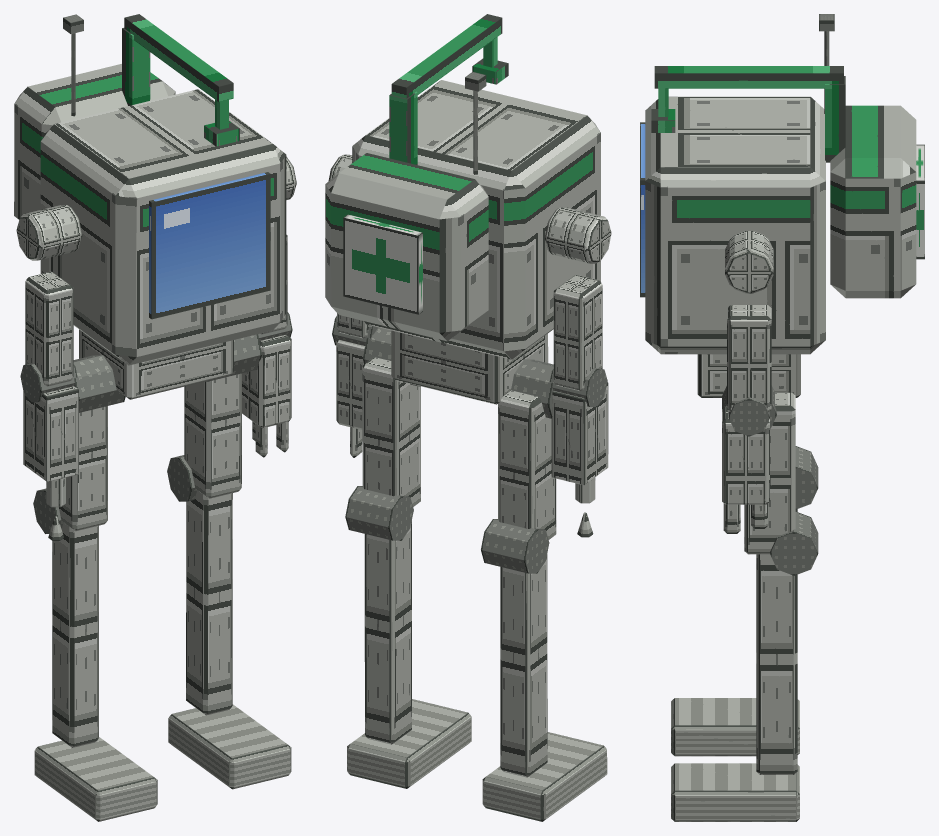
The model's file is mech_repair.glb.
The picture shows the model from 3 angles, left to right: view 1: azimuth 30°, elevation 25°; view 2: azimuth 150°, elevation 25°; view 3: azimuth 270°, elevation 25°; orthographic projection.
Visible parts, largest first — view 1: Torso-head, repair_glass, L_shin, R_shin, L_foot, R_foot, L_thigh, repair_crane, R_forearm, R_upper_arm, root_Pelvis, L_forearm (+8 smaller); view 2: Torso-head, R_shin, L_shin, L_thigh, R_thigh, repair_decal, root_Pelvis, R_foot, L_foot, repair_crane, R_forearm, R_upper_arm (+9 smaller); view 3: Torso-head, L_shin, L_foot, repair_crane, R_foot, L_forearm, L_thigh, L_upper_arm, L_shoulder, root_Pelvis, L_back_knee, R_back_knee (+3 smaller).
Boxes of the visible parts, box(x1,y1,x2,y2) form: Torso-head: box(14, 64, 286, 365); repair_glass: box(149, 172, 270, 319); L_shin: box(186, 490, 232, 715); R_shin: box(52, 522, 98, 747); L_foot: box(168, 704, 291, 789); R_foot: box(34, 737, 157, 821); L_thigh: box(184, 373, 241, 498); repair_crane: box(122, 14, 239, 146); R_forearm: box(23, 386, 78, 540); R_upper_arm: box(25, 271, 73, 386); root_Pelvis: box(79, 329, 233, 399); L_forearm: box(242, 334, 291, 457); Torso-head: box(325, 80, 600, 359); R_shin: box(500, 554, 547, 777); L_shin: box(364, 520, 411, 744); L_thigh: box(362, 357, 420, 506); R_thigh: box(498, 390, 556, 539); repair_decal: box(343, 214, 422, 314); root_Pelvis: box(391, 330, 548, 404); R_foot: box(482, 732, 607, 821); L_foot: box(347, 699, 471, 788); repair_crane: box(389, 14, 508, 164); R_forearm: box(551, 382, 608, 537); R_upper_arm: box(553, 275, 602, 391); Torso-head: box(645, 96, 916, 354); L_shin: box(756, 554, 797, 774); L_foot: box(671, 763, 799, 821); repair_crane: box(651, 66, 845, 162); R_foot: box(671, 698, 799, 756); L_forearm: box(722, 406, 769, 533); L_thigh: box(744, 392, 795, 554); L_upper_arm: box(727, 305, 771, 411); L_shoulder: box(725, 231, 773, 293); root_Pelvis: box(697, 354, 800, 397); L_back_knee: box(770, 511, 818, 575); R_back_knee: box(795, 446, 818, 509).
Size of the model in its own units: 10.44 by 28.36 by 9.93.
1 material, 1 textured.
